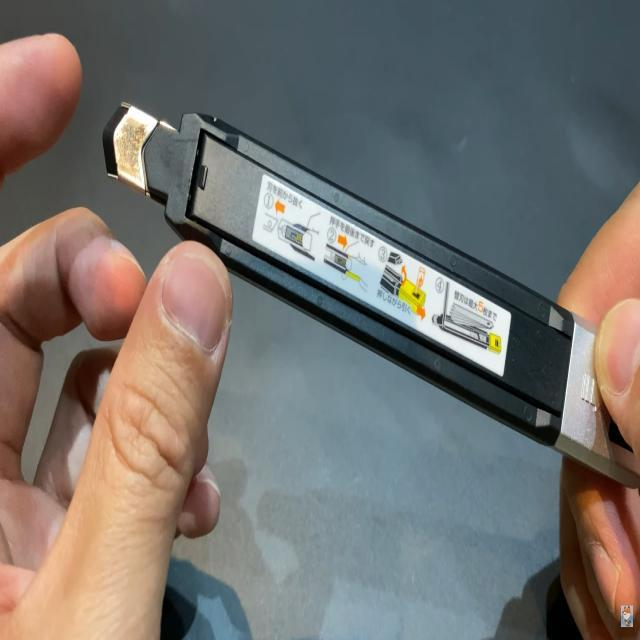cutter: (0, 12, 640, 528)
